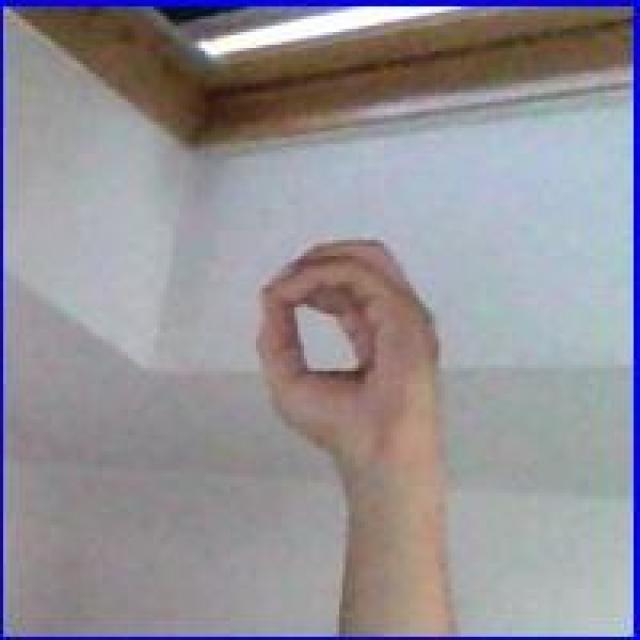O: (248, 235, 437, 485)
